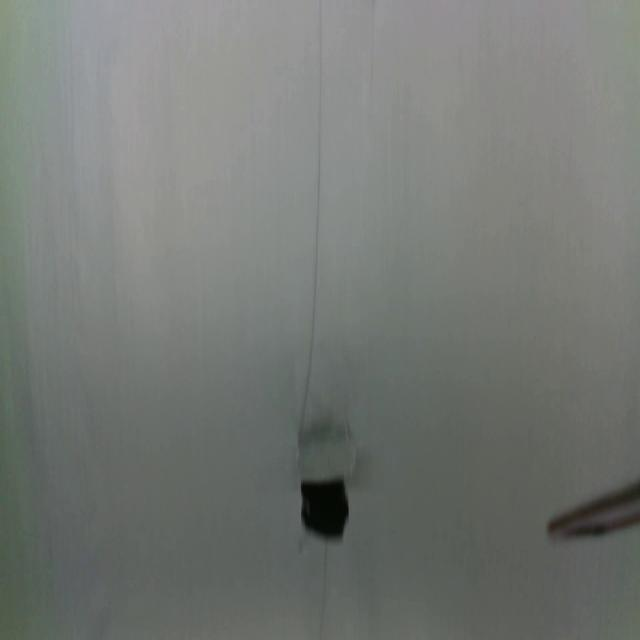crease: (299, 0, 324, 424), (312, 542, 331, 640)
hole: (299, 474, 351, 549)
